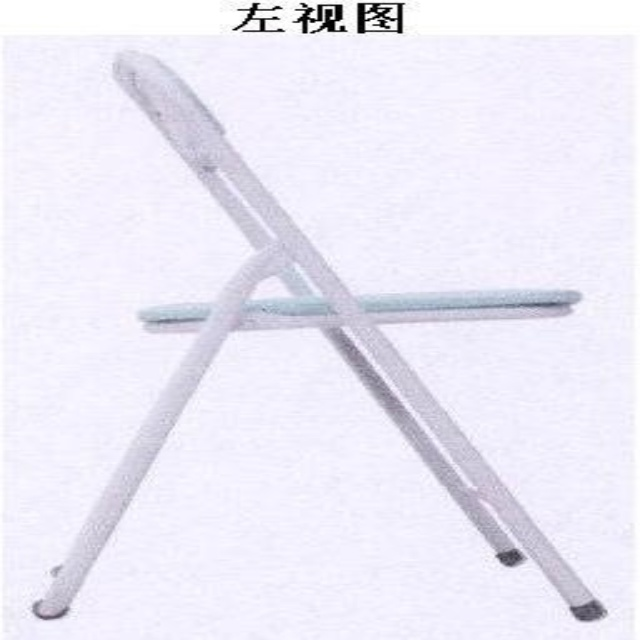obstacle: (32, 52, 603, 620)
